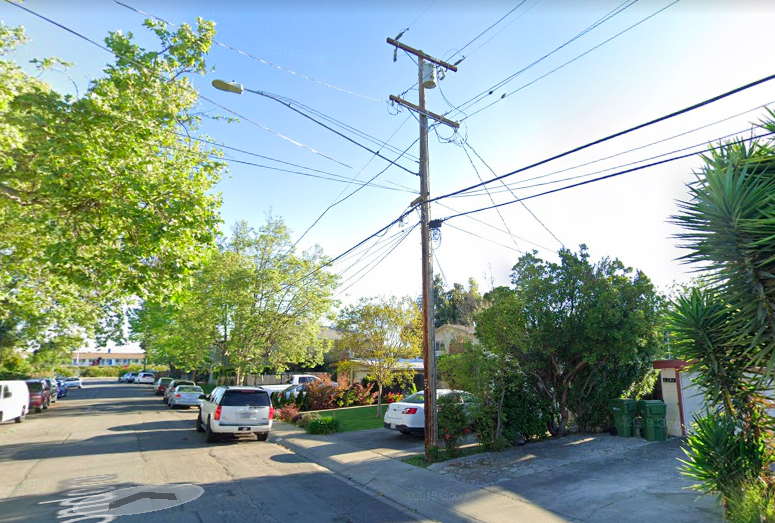tree: (436, 241, 672, 439)
utility_pole: (373, 21, 470, 154)
